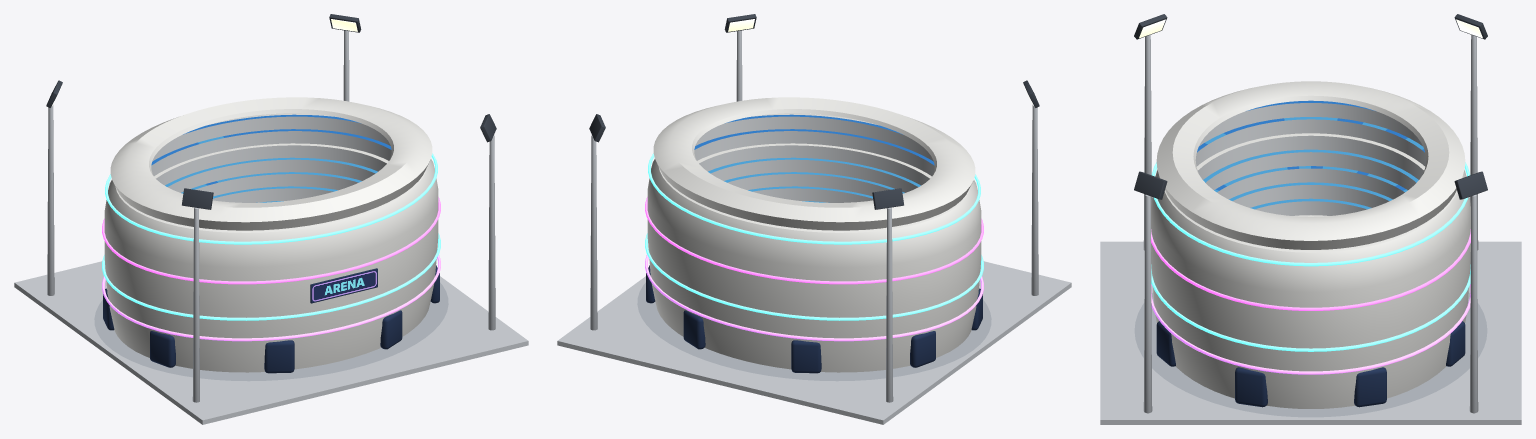
The model's file is estadio.glb.
The picture shows the model from 3 angles, left to right: view 1: azimuth 30°, elevation 25°; view 2: azimuth 150°, elevation 25°; view 3: azimuth 270°, elevation 25°; orthographic projection. The views are drawn at different scales.
Visible parts, largest first — view 1: estadio; view 2: estadio; view 3: estadio.
Boxes of the visible parts, x1=… form: estadio: x1=14, y1=14, x2=528, y2=424; estadio: x1=557, y1=14, x2=1071, y2=424; estadio: x1=1100, y1=14, x2=1521, y2=424.
Size of the model in its own units: 30 by 18.74 by 30.
Materials: 7 (3 with a texture image).
